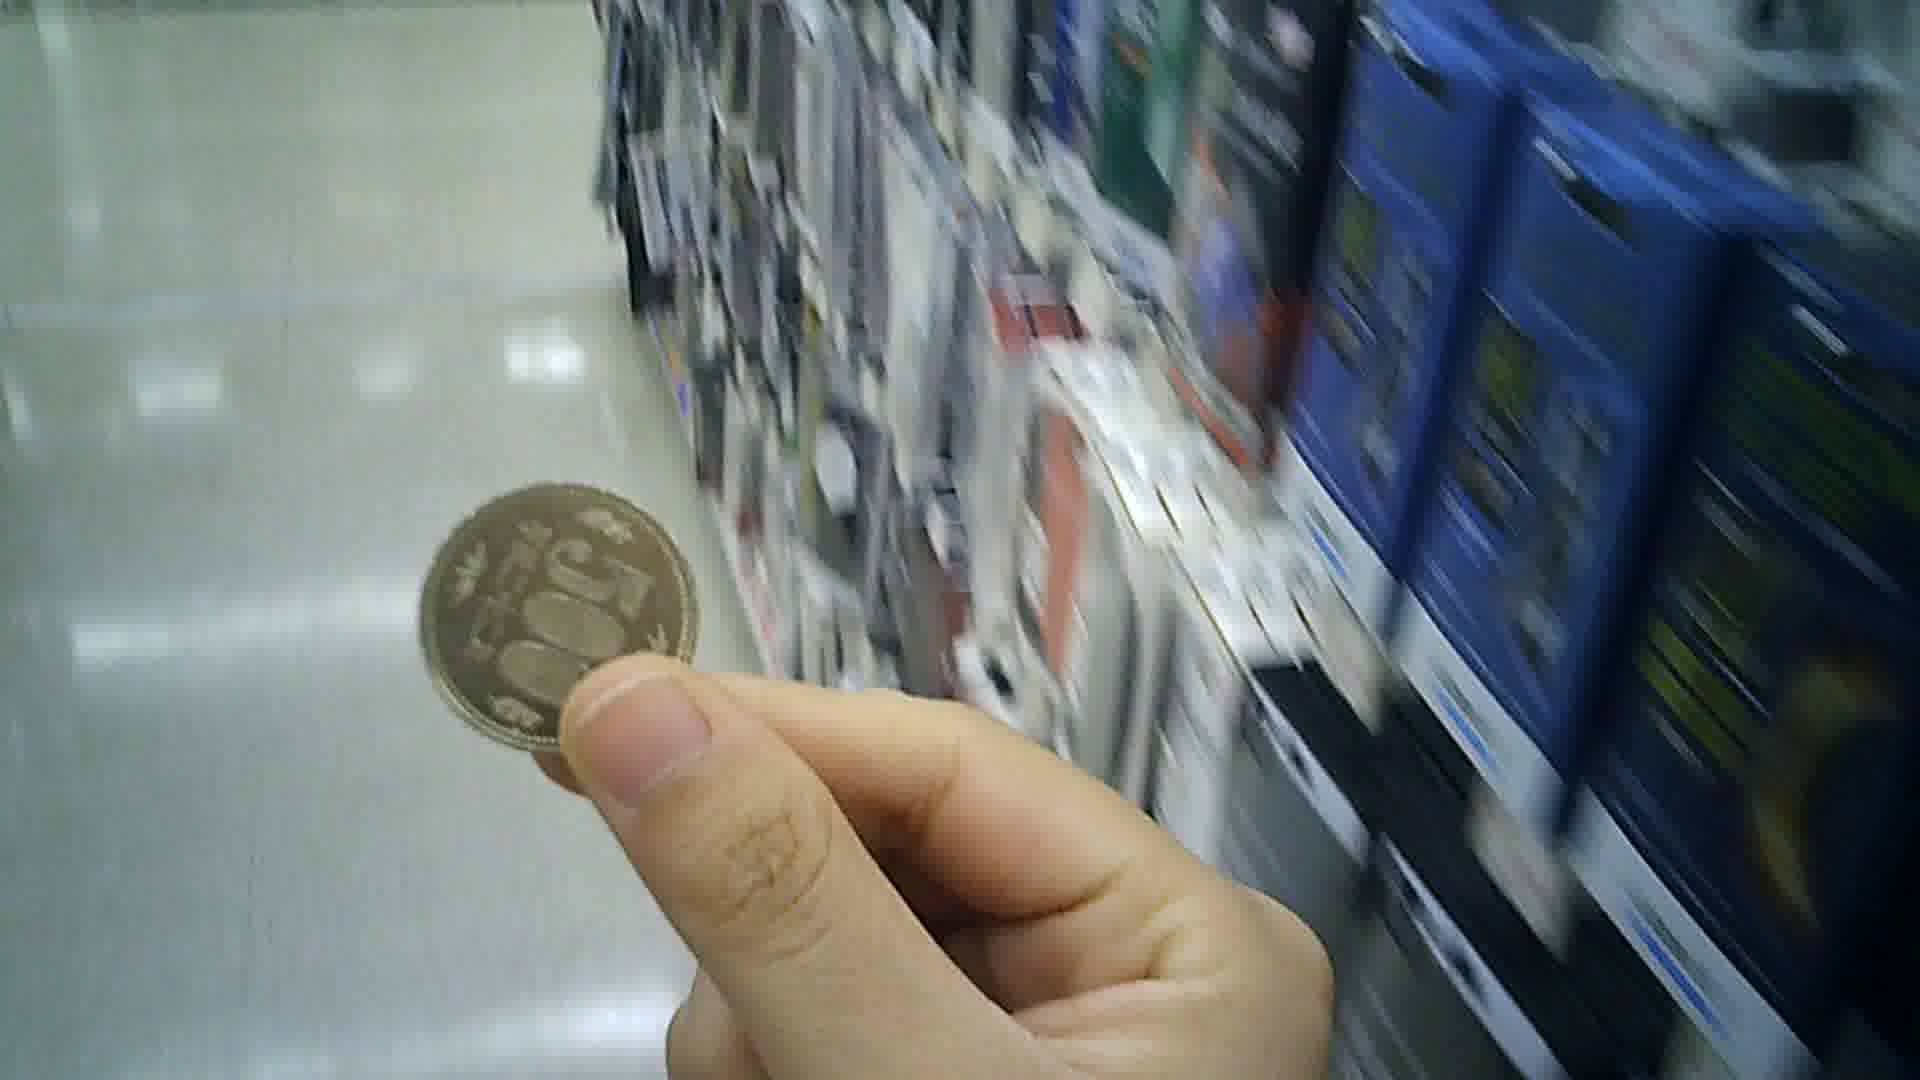500 Yen: (418, 477, 698, 767)
